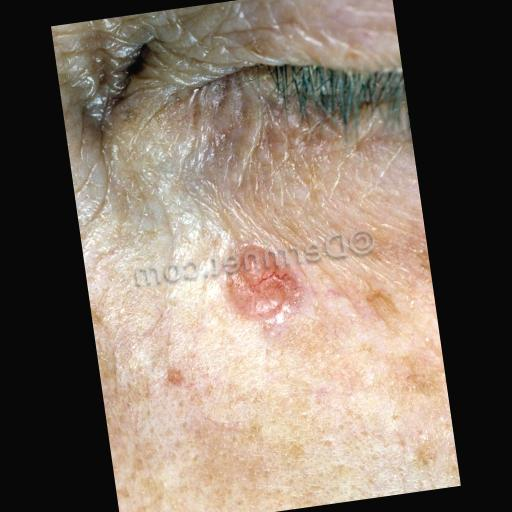Skin_Lesion: (183, 236, 316, 358)
